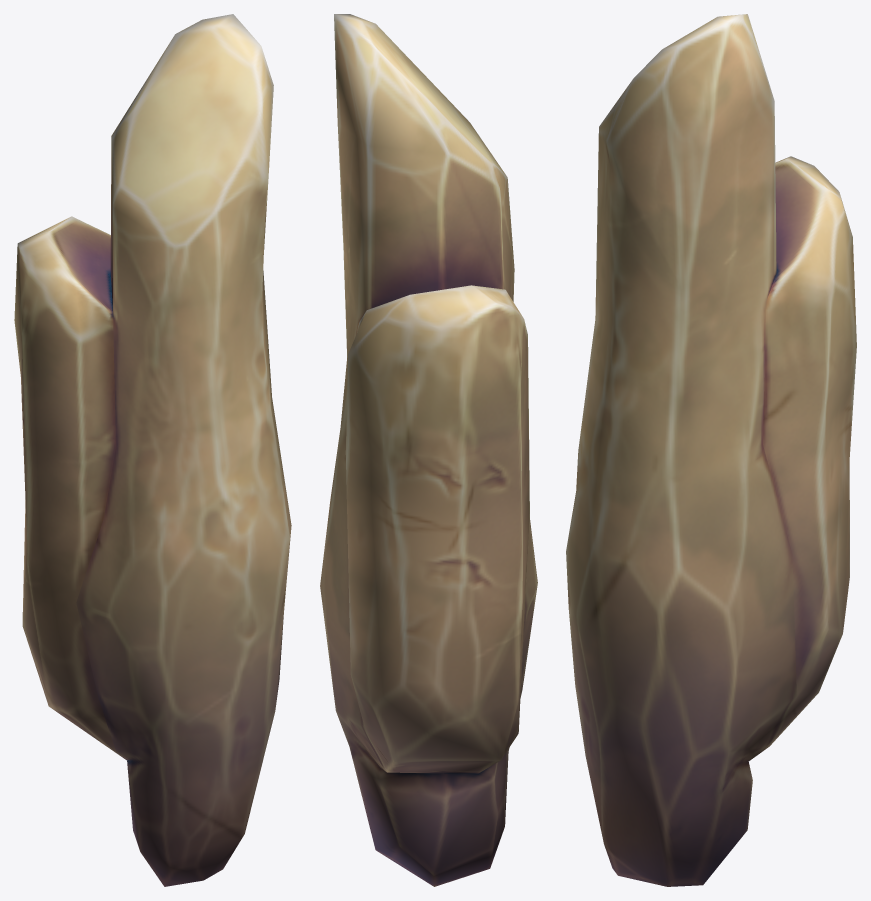
The model's file is SM_Gem_Moonstone_001.fbx.
3 views of the same model, side by side, from view 1: azimuth 30°, elevation 25°; view 2: azimuth 150°, elevation 25°; view 3: azimuth 270°, elevation 25° (orthographic). The views are drawn at different scales.
Visible parts, largest first — view 1: SM_Gem_Moonstone_001; view 2: SM_Gem_Moonstone_001; view 3: SM_Gem_Moonstone_001.
Boxes of the visible parts, <box> form: SM_Gem_Moonstone_001: <box>14,14,291,886</box>; SM_Gem_Moonstone_001: <box>320,14,537,886</box>; SM_Gem_Moonstone_001: <box>566,14,856,886</box>.
Size of the model in its own units: 21.21 by 75.38 by 22.12.
